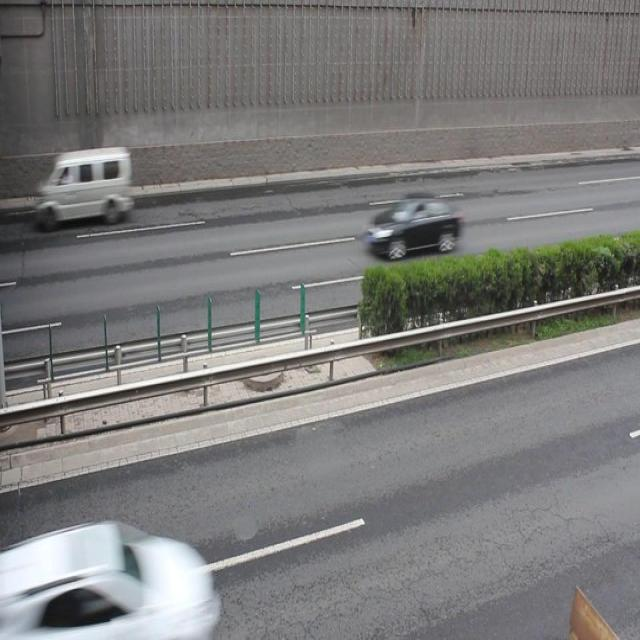car: (0, 515, 221, 640), (367, 192, 462, 262)
truck: (36, 147, 134, 226)
